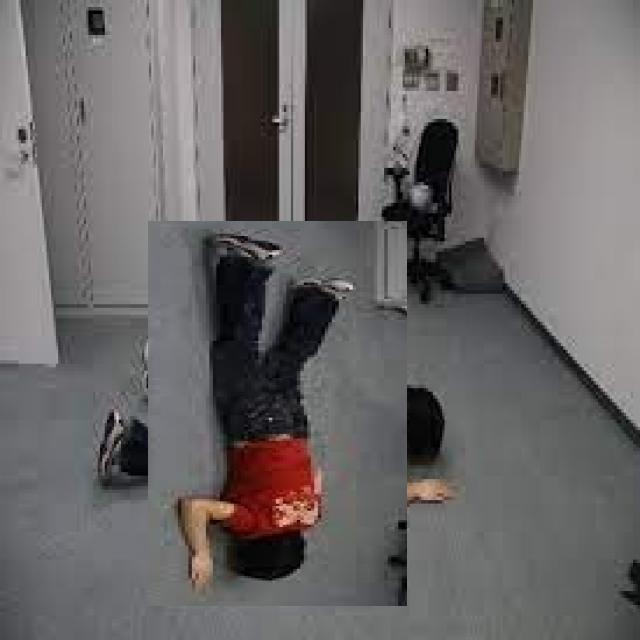Fall: (144, 223, 381, 611)
